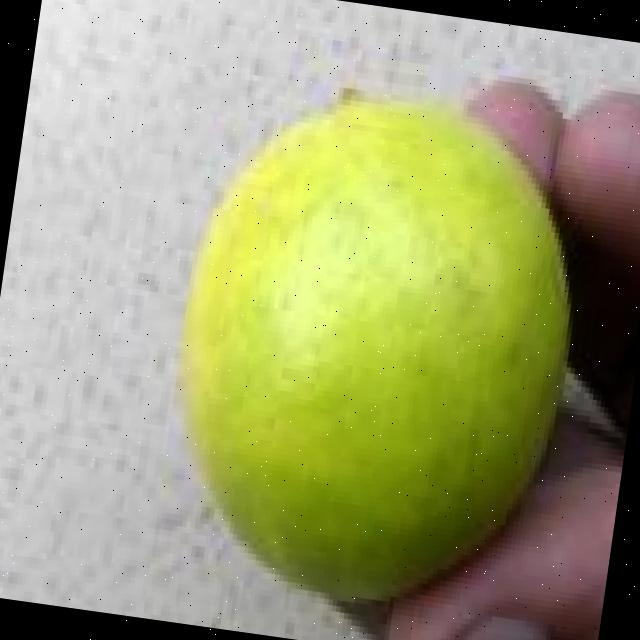Good_Lime-10-21-days: (184, 93, 579, 608)
